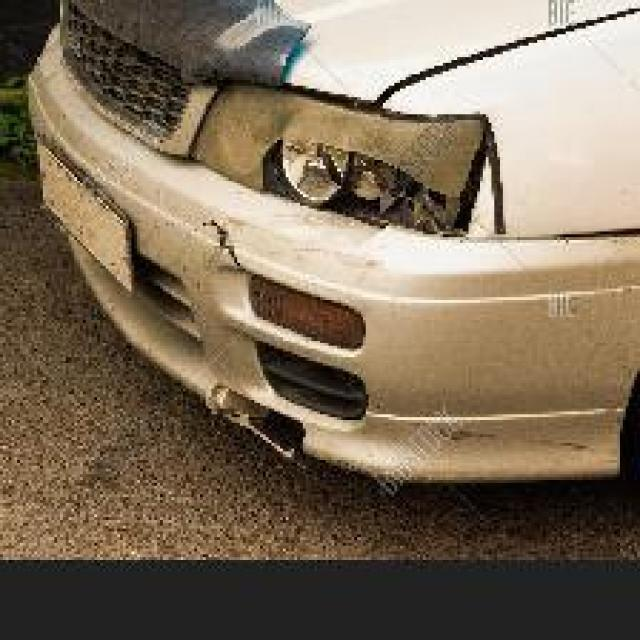damaged: (191, 137, 480, 274), (200, 386, 620, 466)
